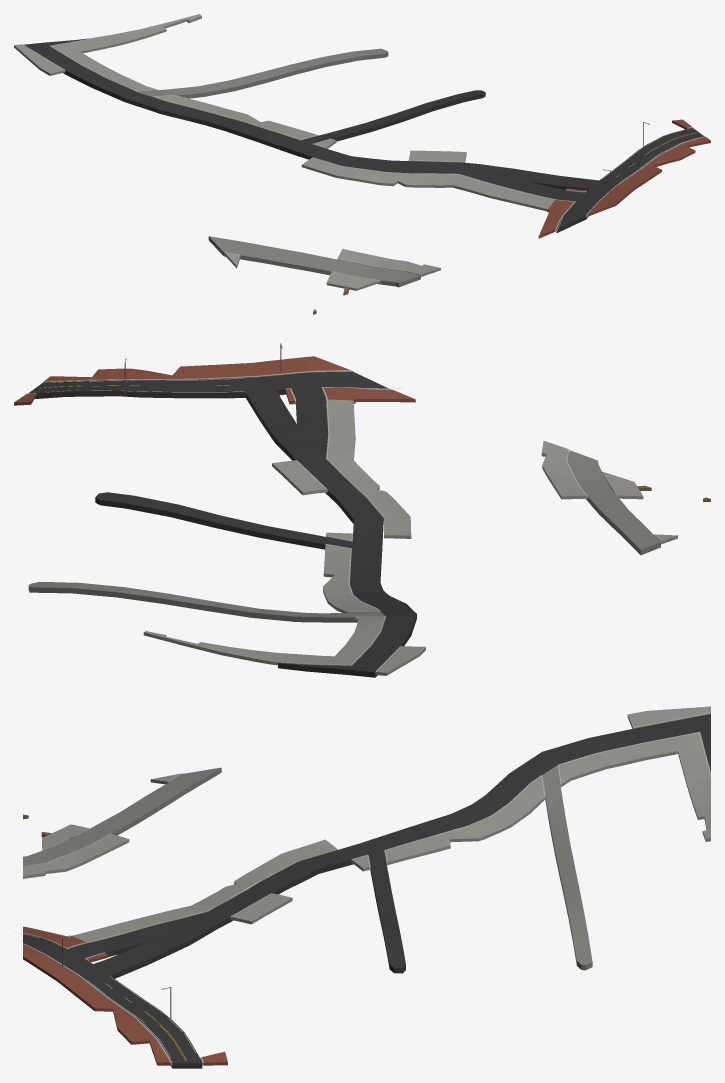
3 renders of one model, top to bottom at view 1: azimuth 30°, elevation 25°; view 2: azimuth 150°, elevation 25°; view 3: azimuth 270°, elevation 25°, orthographic. The views are drawn at different scales.
Size of the model in its own units: 147 by 22.28 by 148.
